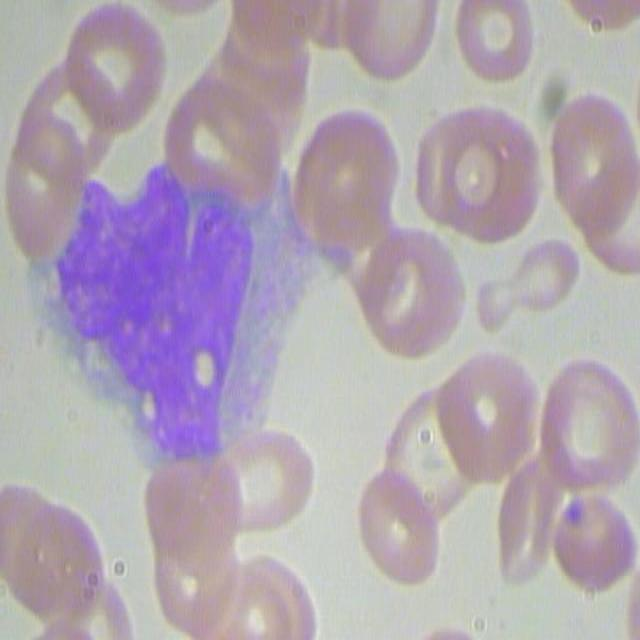RBC: (292, 97, 402, 284), (410, 96, 545, 246), (159, 67, 296, 211), (0, 56, 95, 256), (140, 453, 237, 640), (0, 486, 113, 640), (352, 226, 464, 359), (436, 348, 540, 490), (535, 351, 637, 494), (61, 4, 162, 137), (208, 420, 317, 538), (540, 88, 637, 219), (542, 466, 635, 597), (303, 0, 445, 80), (199, 550, 322, 638), (355, 467, 445, 587), (16, 62, 110, 176), (495, 444, 561, 579), (450, 1, 540, 86)
WBC: (45, 155, 258, 493)
